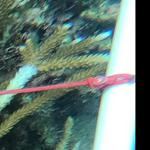alive: (1, 1, 134, 148)
